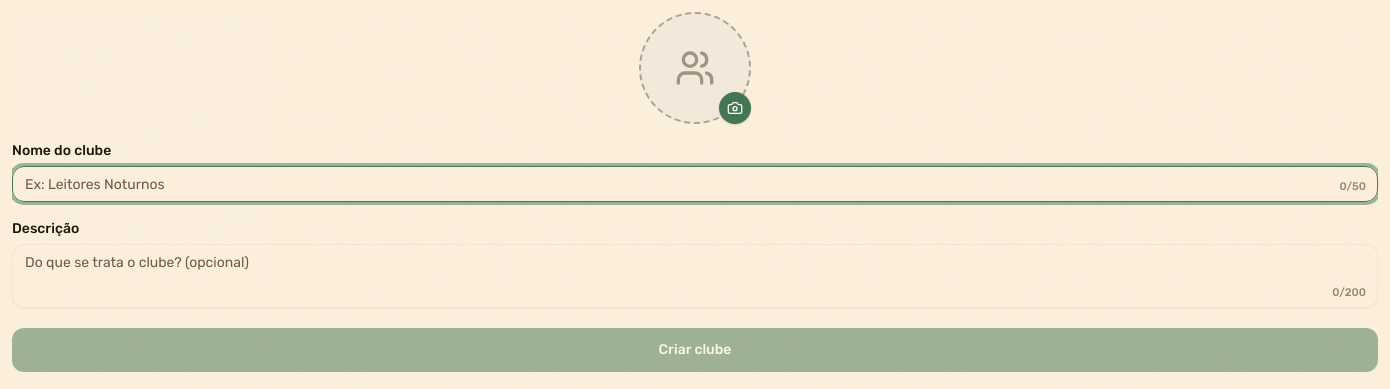
Test: CreateGroupForm › shows character counter for name
The width and height of the screenshot is (1390, 389).
Type "Teste" into the field labelled "Nome do clube". click: (695, 184)
box: [12,166,1378,202]
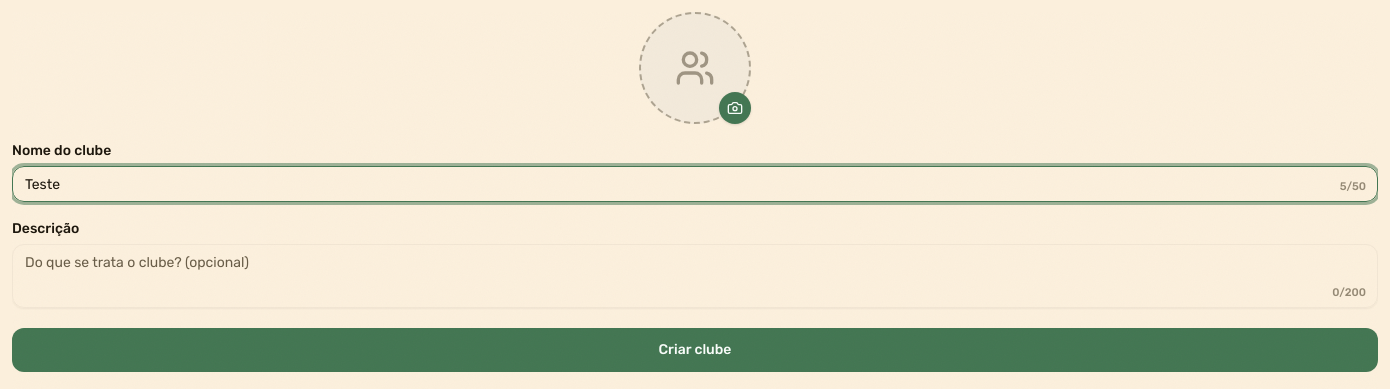
Check: the text "5/50" is shown, box [1340,180,1366,194]
